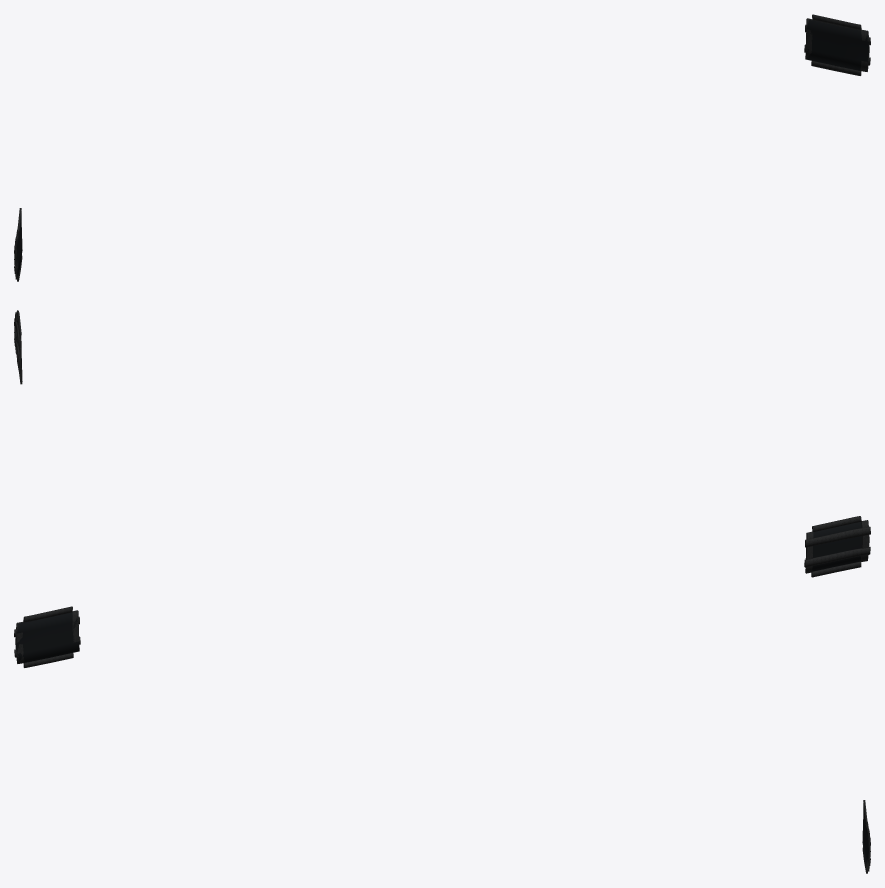
The model's file is DT52_rear_bumper_vents.glb.
The picture shows the model from 3 angles, top to bottom: view 1: azimuth 30°, elevation 25°; view 2: azimuth 150°, elevation 25°; view 3: azimuth 330°, elevation 25°; orthographic projection.
Visible parts, largest first — view 1: MOD_ND_DT52_recess_L; view 2: MOD_ND_DT52_recess_R, MOD_ND_DT52_slat_R1, MOD_ND_DT52_slat_R0; view 3: MOD_ND_DT52_recess_R.
Part boxes in pixels (x1,y1,x2,y2): MOD_ND_DT52_recess_L: (805,20,868,70); MOD_ND_DT52_recess_R: (805,522,862,572); MOD_ND_DT52_slat_R1: (805,526,870,547); MOD_ND_DT52_slat_R0: (804,547,870,567); MOD_ND_DT52_recess_R: (16,612,79,662).
Size of the model in its own units: 1.56 by 0.0886 by 0.0954.
Materials: 2 (1 with a texture image).
